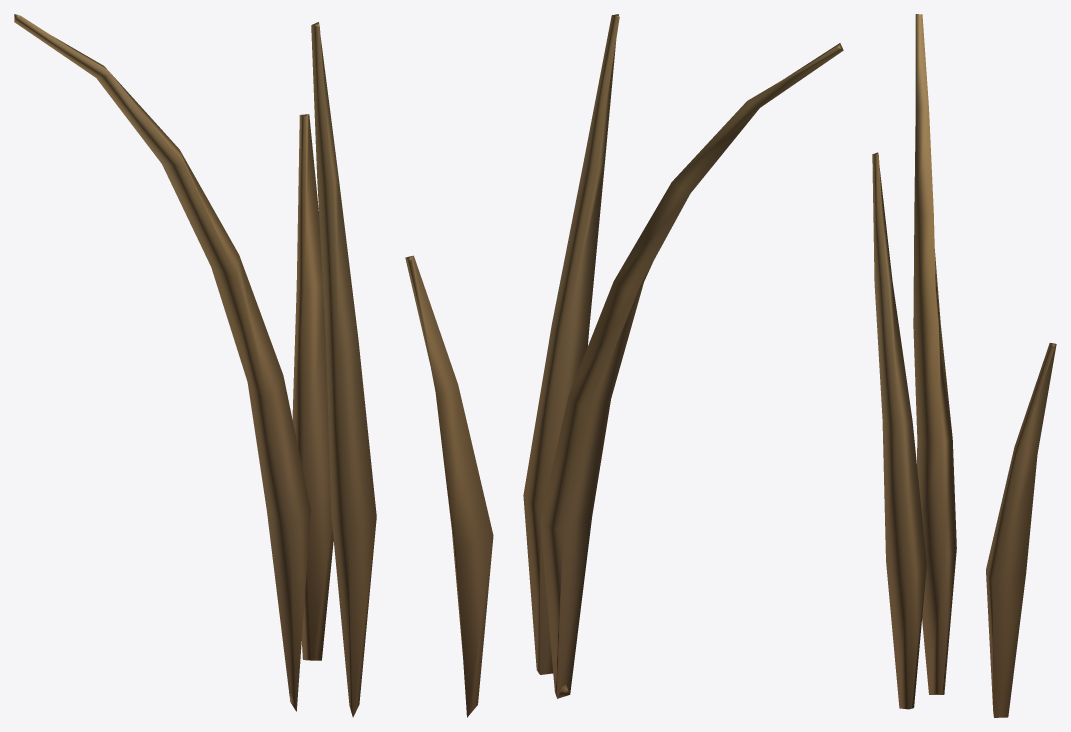
Rendered from trees-grasses-dry-grass-blades_v12.glb.
3 renders of one model, left to right at view 1: azimuth 30°, elevation 25°; view 2: azimuth 150°, elevation 25°; view 3: azimuth 270°, elevation 25°, orthographic. The views are drawn at different scales.
Parts seen in each view (by area): view 1: Dry Grass Blades_v12; view 2: Dry Grass Blades_v12; view 3: Dry Grass Blades_v12.
Part boxes in pixels (left/top/right/bottom): Dry Grass Blades_v12: left=14, top=14, right=376, bottom=717; Dry Grass Blades_v12: left=405, top=14, right=843, bottom=717; Dry Grass Blades_v12: left=872, top=14, right=1056, bottom=717.
Size of the model in its own units: 0.3135 by 0.6 by 0.1734.
